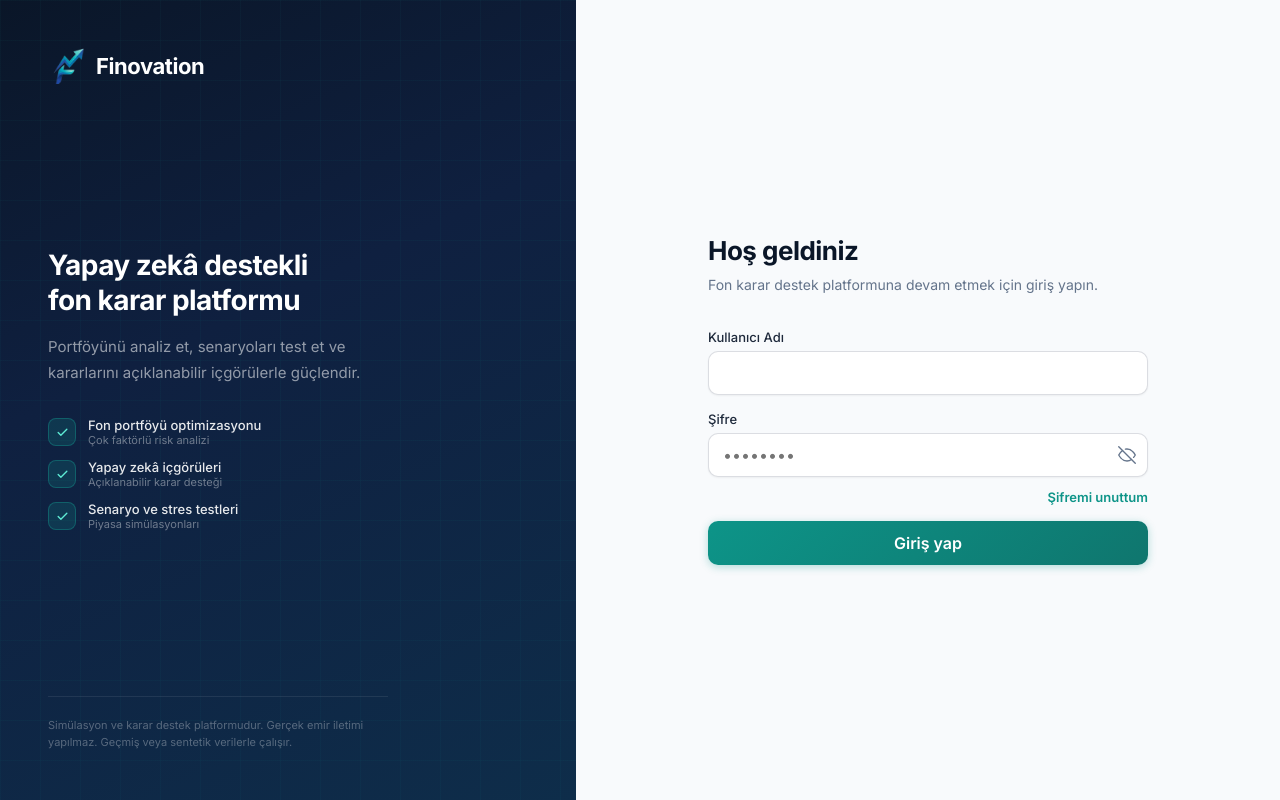
Test: LoginPage › boş alanlarda API isteği göndermeden alan hatalarını gösterir
Click the button "Giriş yap" at (928, 543), box [708, 521, 1148, 565]
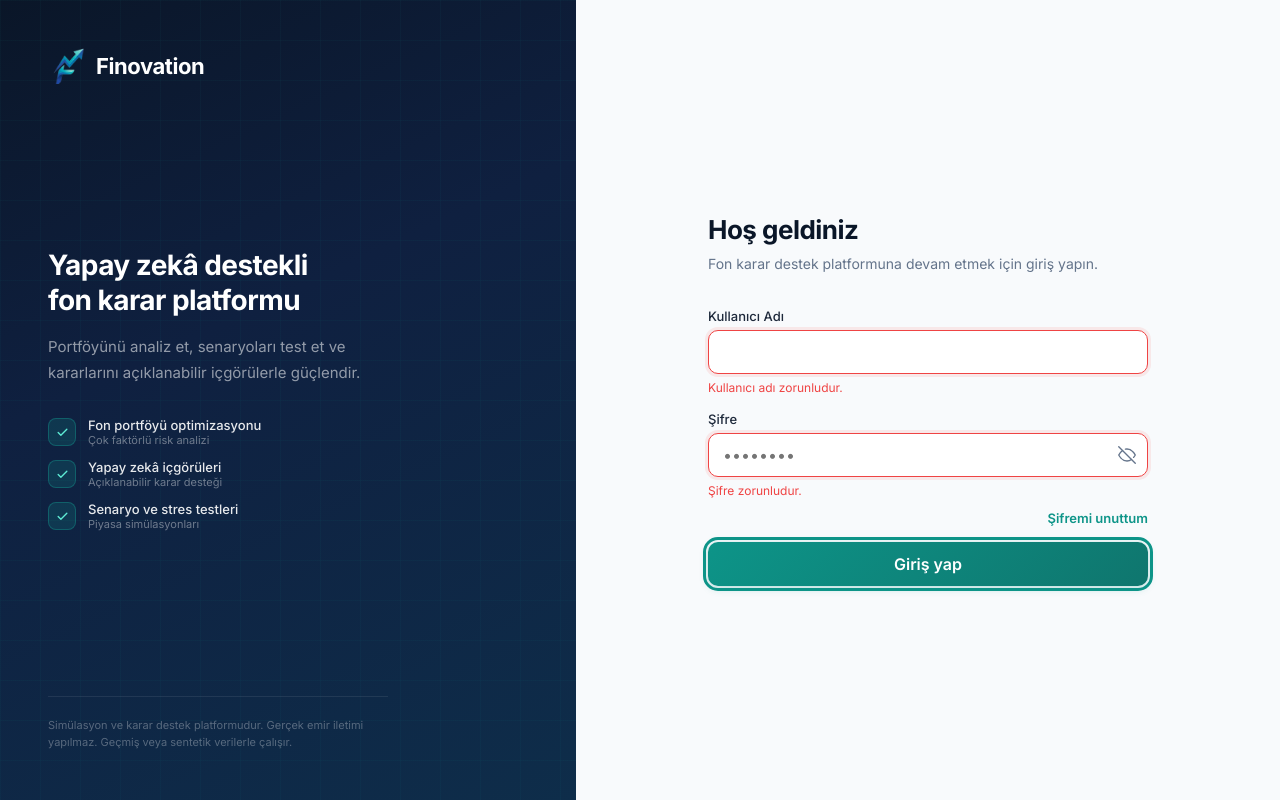
Expected: the text "Kullanıcı adı zorunludur." is shown, [708, 380, 843, 395]
Expected: the text "Şifre zorunludur." is shown, [708, 483, 802, 498]
